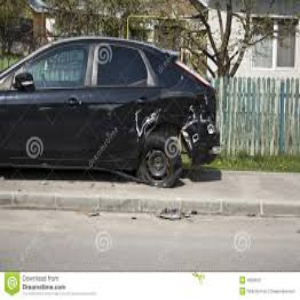door: (117, 103, 167, 136)
